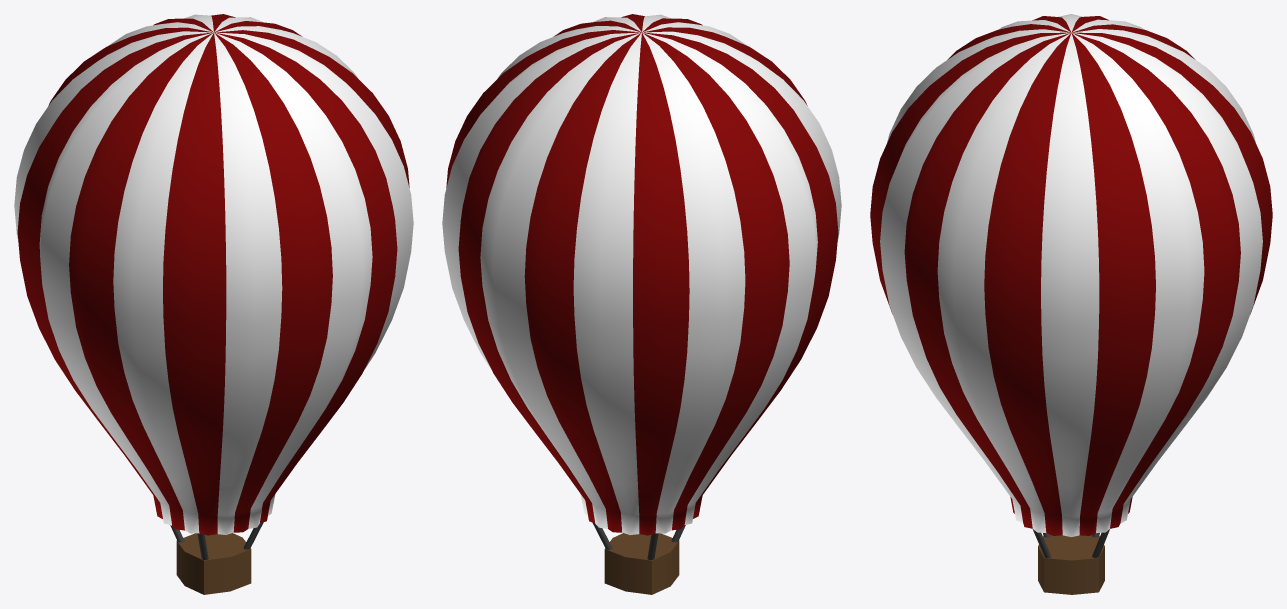
Rendered from hot_air_balloon.obj.
3 renders of one model, left to right at view 1: azimuth 30°, elevation 25°; view 2: azimuth 150°, elevation 25°; view 3: azimuth 270°, elevation 25°, orthographic.
Visible parts, largest first — view 1: pSphere3; view 2: pSphere3; view 3: pSphere3.
Part boxes in pixels (bbox=[...]): pSphere3: bbox=[14, 14, 413, 594]; pSphere3: bbox=[442, 14, 841, 594]; pSphere3: bbox=[870, 14, 1272, 594].
Size of the model in its own units: 1.24 by 1.86 by 1.24.
